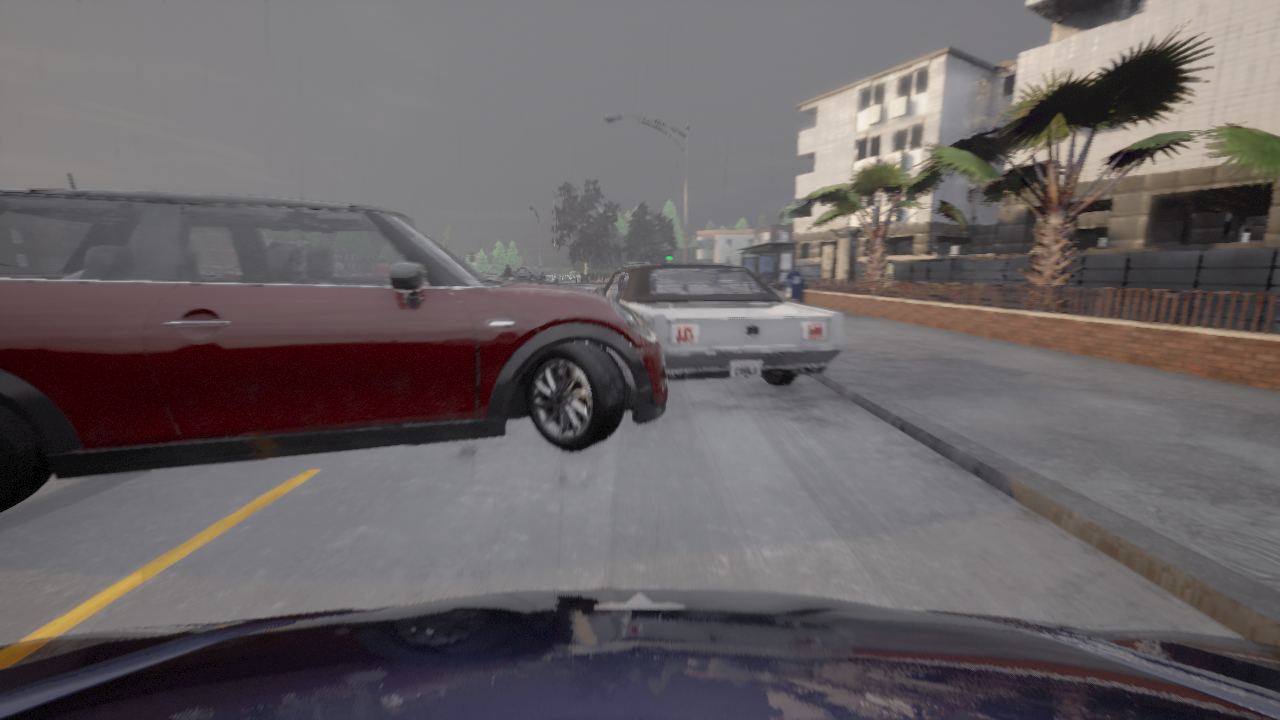cyclist: (0, 173, 666, 514), (0, 588, 1279, 719), (596, 264, 844, 386), (500, 267, 545, 282), (623, 262, 649, 267), (627, 265, 640, 267)
pedestrian: (503, 265, 511, 278)
